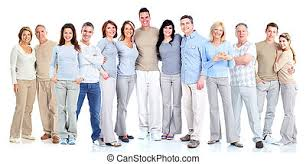person: (60, 23, 76, 42), (179, 15, 195, 34), (101, 20, 118, 37), (160, 19, 175, 38), (234, 23, 249, 42), (80, 22, 94, 42), (138, 7, 151, 28), (210, 22, 225, 40), (121, 20, 135, 39), (265, 22, 278, 42), (19, 26, 33, 43), (34, 24, 47, 42), (278, 33, 291, 50)
